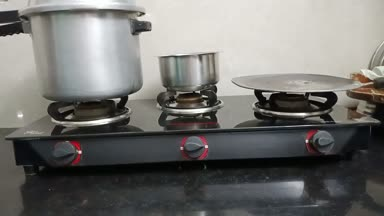flame_gas_off: (41, 97, 131, 170), (259, 91, 354, 156), (162, 88, 222, 162)
